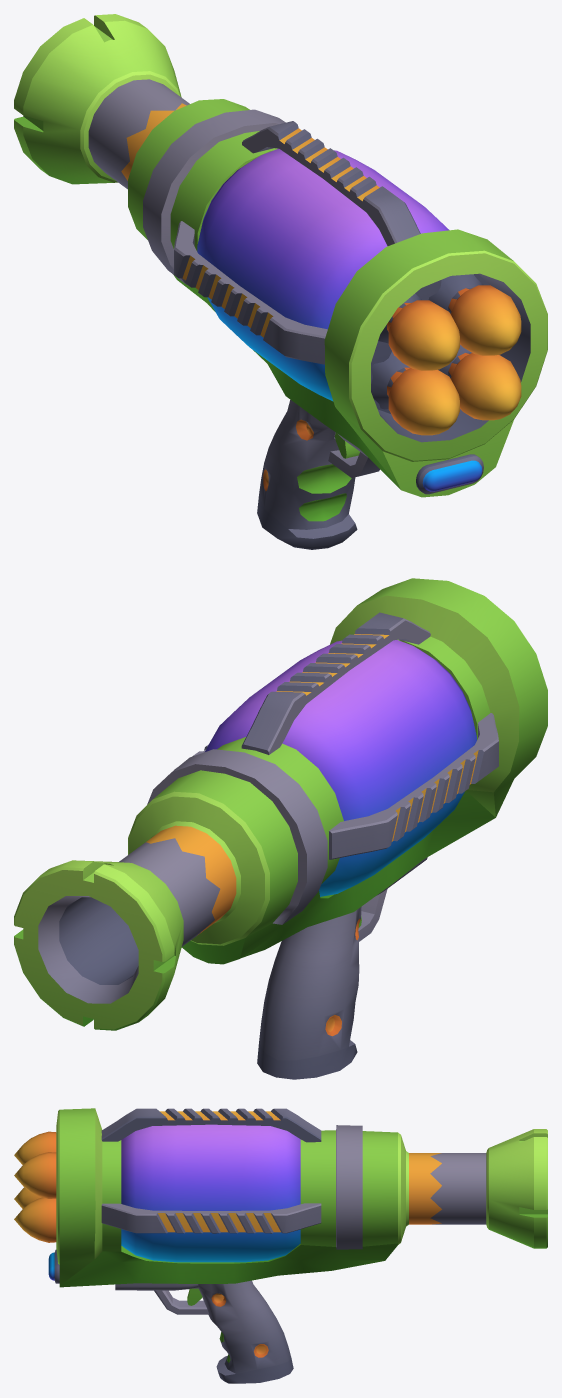
File: Grenade Gun A.fbx
3 views of the same model, one above another, from view 1: azimuth 30°, elevation 25°; view 2: azimuth 150°, elevation 25°; view 3: azimuth 270°, elevation 25° (orthographic). The views are drawn at different scales.
Parts seen in each view (by area): view 1: Grenade Gun A, Grenade Gun A.003, Grenade Gun A.002, Grenade Gun A.001, Grenade Gun A.004; view 2: Grenade Gun A; view 3: Grenade Gun A, Grenade Gun A.002, Grenade Gun A.004, Grenade Gun A.001.
Boxes of the visible parts, x1,y1,x2,y2 form: Grenade Gun A: (14,14,547,549); Grenade Gun A.003: (371,351,459,435); Grenade Gun A.002: (428,274,521,355); Grenade Gun A.001: (378,293,459,370); Grenade Gun A.004: (438,345,521,420); Grenade Gun A: (14,578,547,1079); Grenade Gun A: (48,1108,547,1383); Grenade Gun A.002: (14,1152,56,1198); Grenade Gun A.004: (14,1197,56,1242); Grenade Gun A.001: (14,1131,56,1164).
Size of the model in its own units: 0.3217 by 0.5589 by 1.02.
